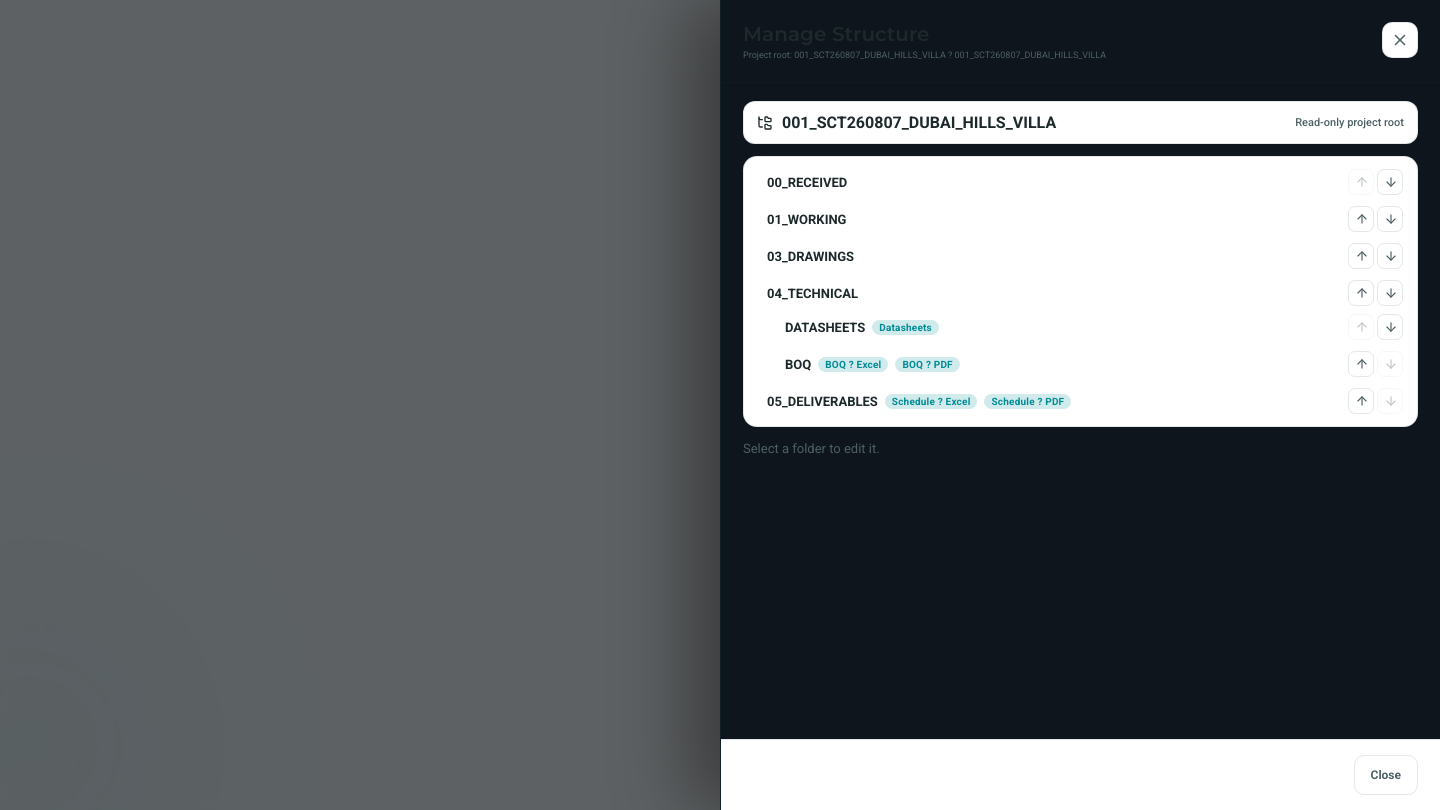
Test case: ManageStructureDrawer › shows contextual actions when a folder is selected
Click the button "03_DRAWINGS".
click(811, 256)  # box [760,244,1342,268]
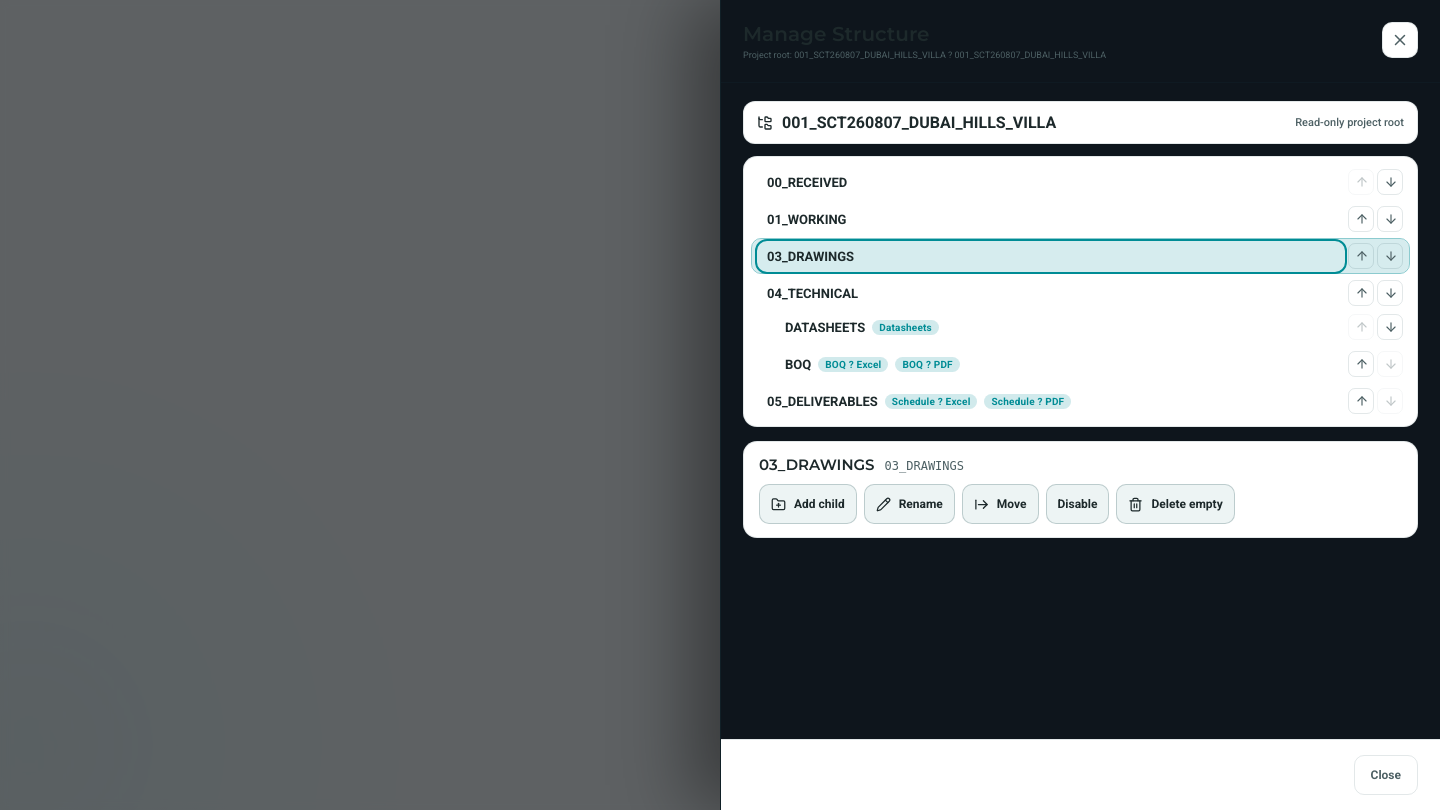
Now the button "Add child" is shown, box [759,484,857,524]
Now the button "Rename" is shown, box [864,484,955,524]
Now the button "Move" is shown, box [962,484,1038,524]
